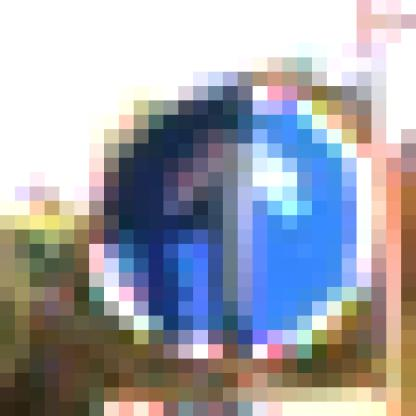AheadOnly: (90, 87, 343, 345)
